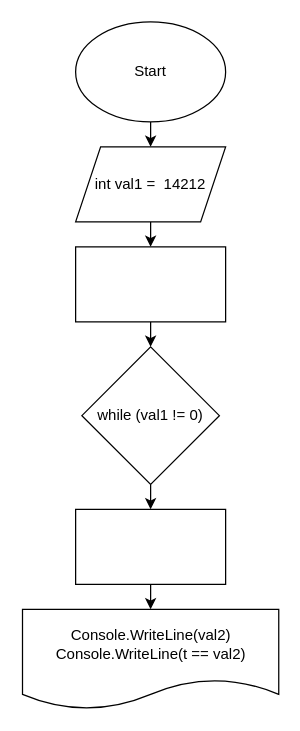
The diagram is 300 pixels wide and 731 high, and some of its shapes have lost their labels. The shapes that lost their labels are listed below. From the top down, each one's centre as x and y in pixels, then its label:
point 150,284: int val2 = 0 int t = val1
point 150,546: int o = val1 % 10 val1 = val1 / 10 val2 = val2 * 10 + o
